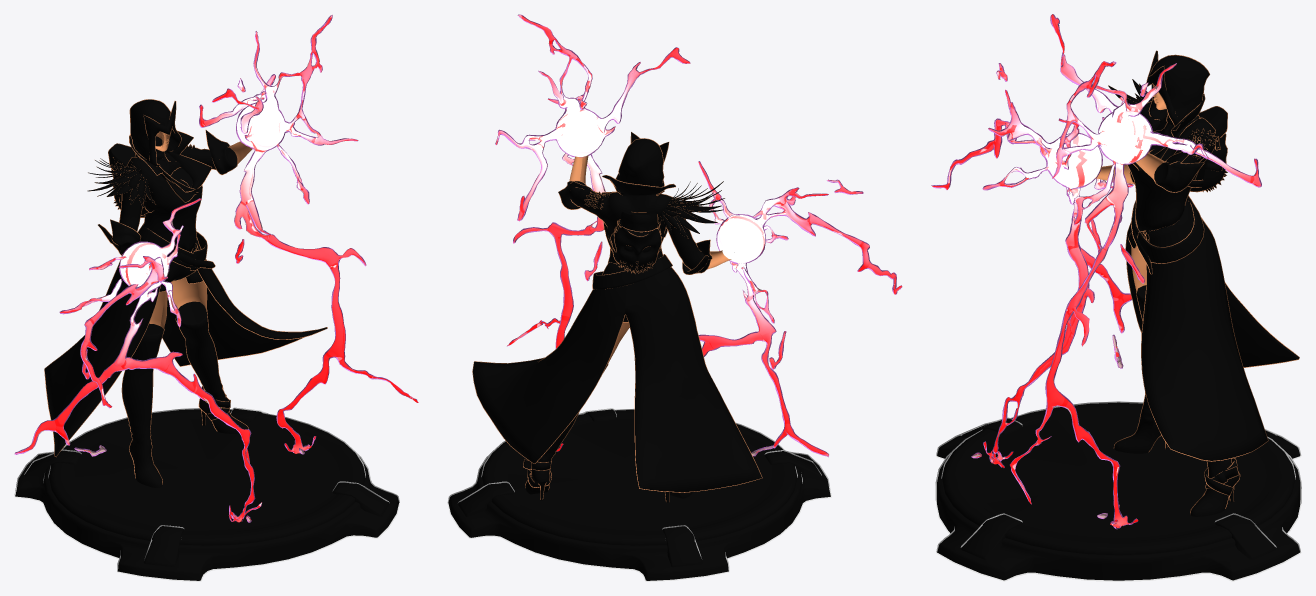
Rendered from woman.gltf.
3 views of the same model, side by side, from view 1: azimuth 30°, elevation 25°; view 2: azimuth 150°, elevation 25°; view 3: azimuth 270°, elevation 25° (orthographic). The views are drawn at different scales.
Visible parts, largest first — view 1: 3-model-0, 5-model-0, 0-model-0, 1-model-0, 2-model-0, 4-model-0; view 2: 5-model-0, 3-model-0, 0-model-0, 1-model-0, 2-model-0, 4-model-0; view 3: 3-model-0, 5-model-0, 0-model-0, 1-model-0, 2-model-0, 4-model-0.
Boxes of the visible parts, x1,y1,x2,y2 form: 3-model-0: [15, 408, 398, 580]; 5-model-0: [44, 99, 326, 487]; 0-model-0: [15, 15, 418, 522]; 1-model-0: [14, 15, 417, 522]; 2-model-0: [44, 99, 327, 484]; 4-model-0: [14, 407, 399, 581]; 5-model-0: [473, 132, 761, 502]; 3-model-0: [448, 409, 830, 580]; 0-model-0: [496, 15, 901, 456]; 1-model-0: [495, 14, 901, 456]; 2-model-0: [472, 132, 762, 501]; 4-model-0: [447, 408, 831, 581]; 3-model-0: [937, 402, 1300, 580]; 5-model-0: [1108, 51, 1299, 516]; 0-model-0: [932, 14, 1260, 527]; 1-model-0: [931, 14, 1261, 529]; 2-model-0: [1095, 50, 1299, 513]; 4-model-0: [935, 401, 1301, 581].
Size of the model in its own units: 8.34 by 10.02 by 6.6.
8 materials, 4 textured.
